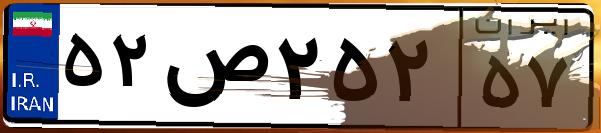2: (270, 28, 330, 110), (385, 28, 445, 110), (110, 28, 158, 98)
5: (330, 28, 385, 110), (57, 26, 110, 100), (475, 38, 525, 113)
7: (525, 38, 570, 115)
ص: (158, 20, 270, 120)
